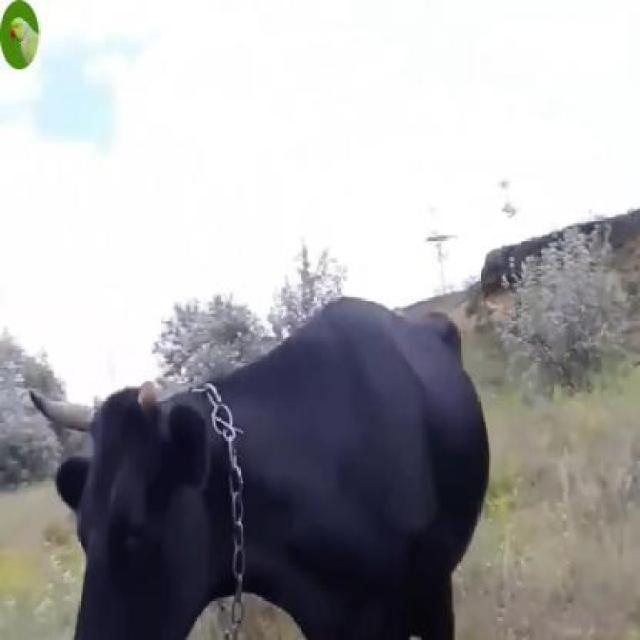Cow: (29, 298, 488, 638)
